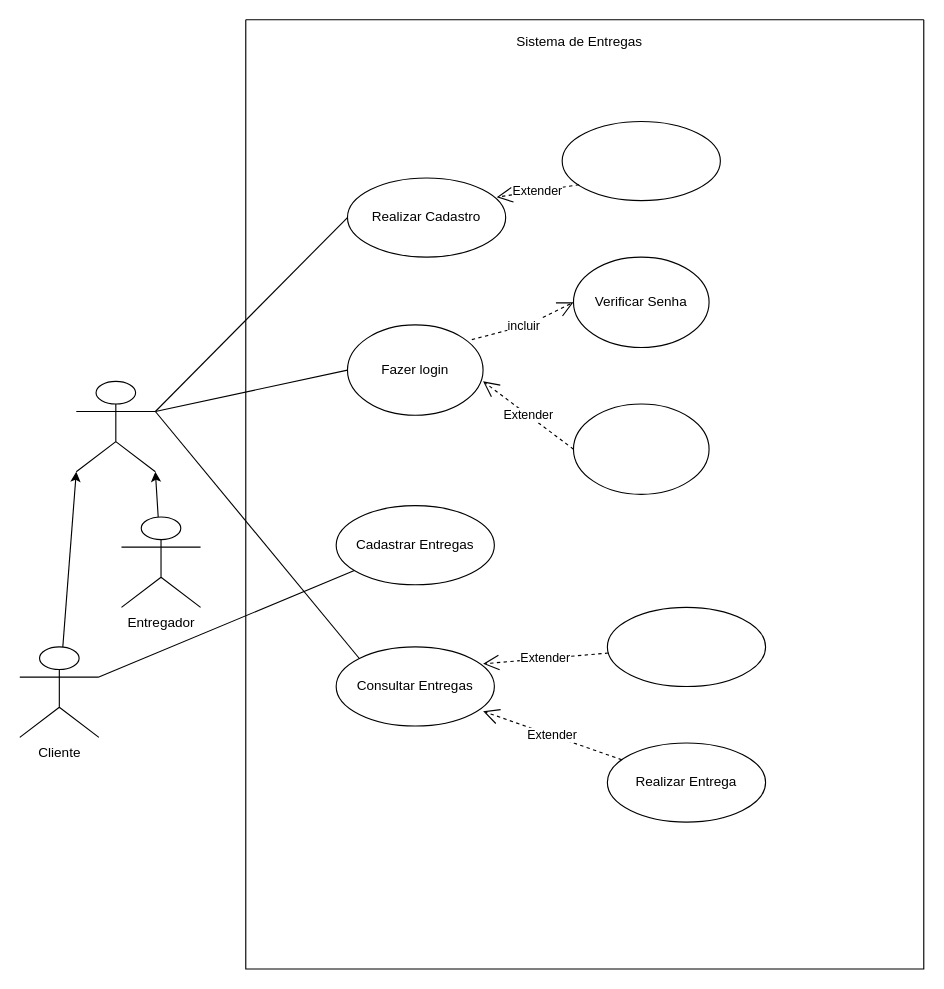
Image size: 944x989. Some labels were removed from this diagram. Here are the shapes that lost their labels. From the top down, the centre of each, then its label:
At (640,160): "Editar Cadastro".
At (115,426): "Usuário".
At (640,448): "Mensagem de Erro".
At (686,646): "Cancelar Entrega".
